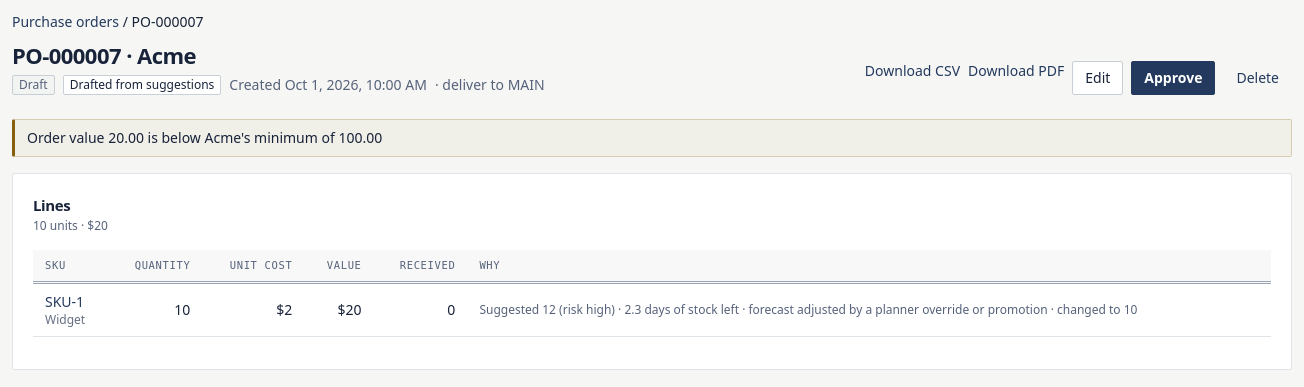
Scenario: purchase order page › approves with the version it showed
The width and height of the screenshot is (1304, 387).
What coordinates should you click on to do the following:
click the button "Approve"
I would click on:
 (1173, 78)
Its box is [1131, 61, 1215, 95].
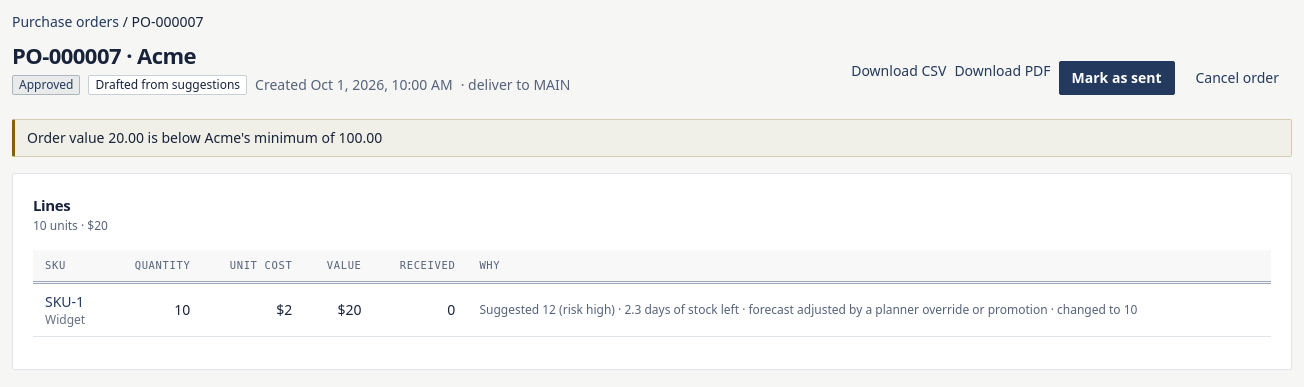
Check: the text "Approved" is shown, box [12, 75, 80, 95]
Check: the button "Mark as sent" is shown, box [1059, 61, 1174, 95]
